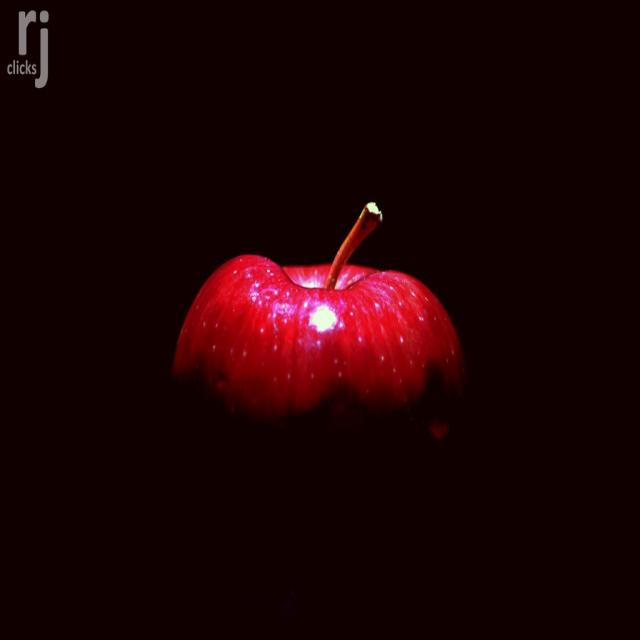Healty Apple: (171, 199, 466, 440)
